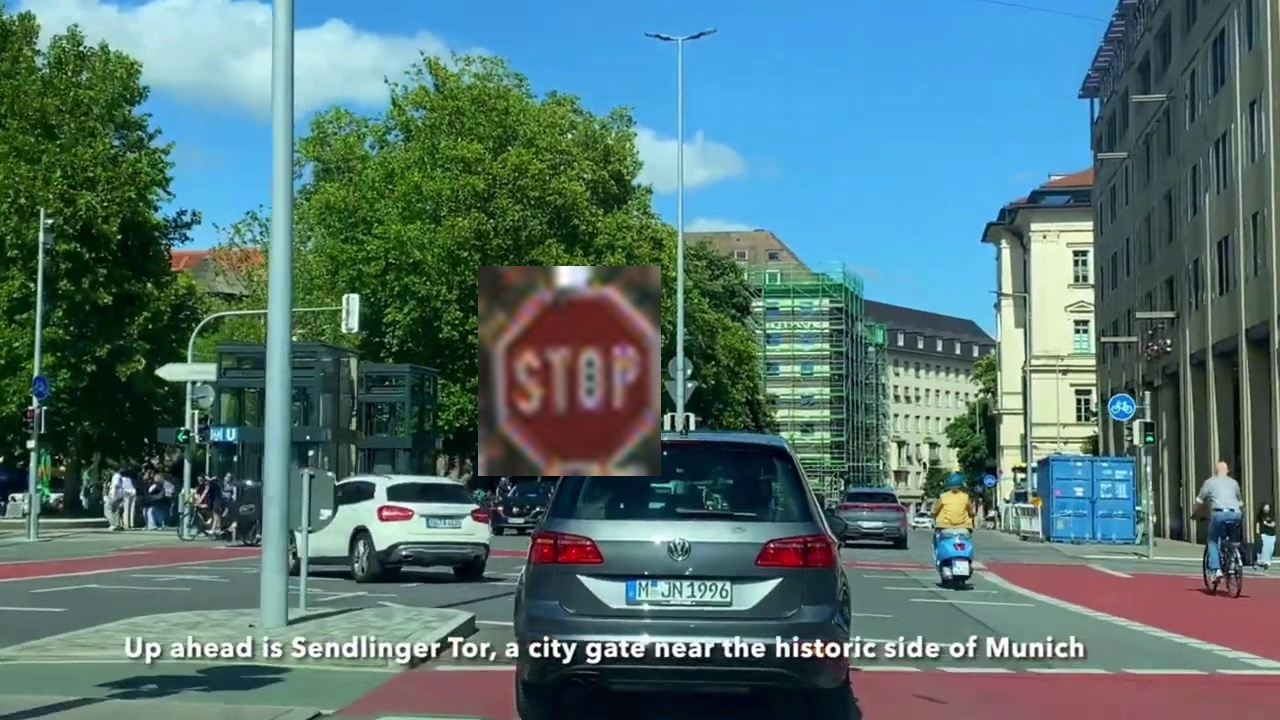Stop: (478, 266, 661, 476)
